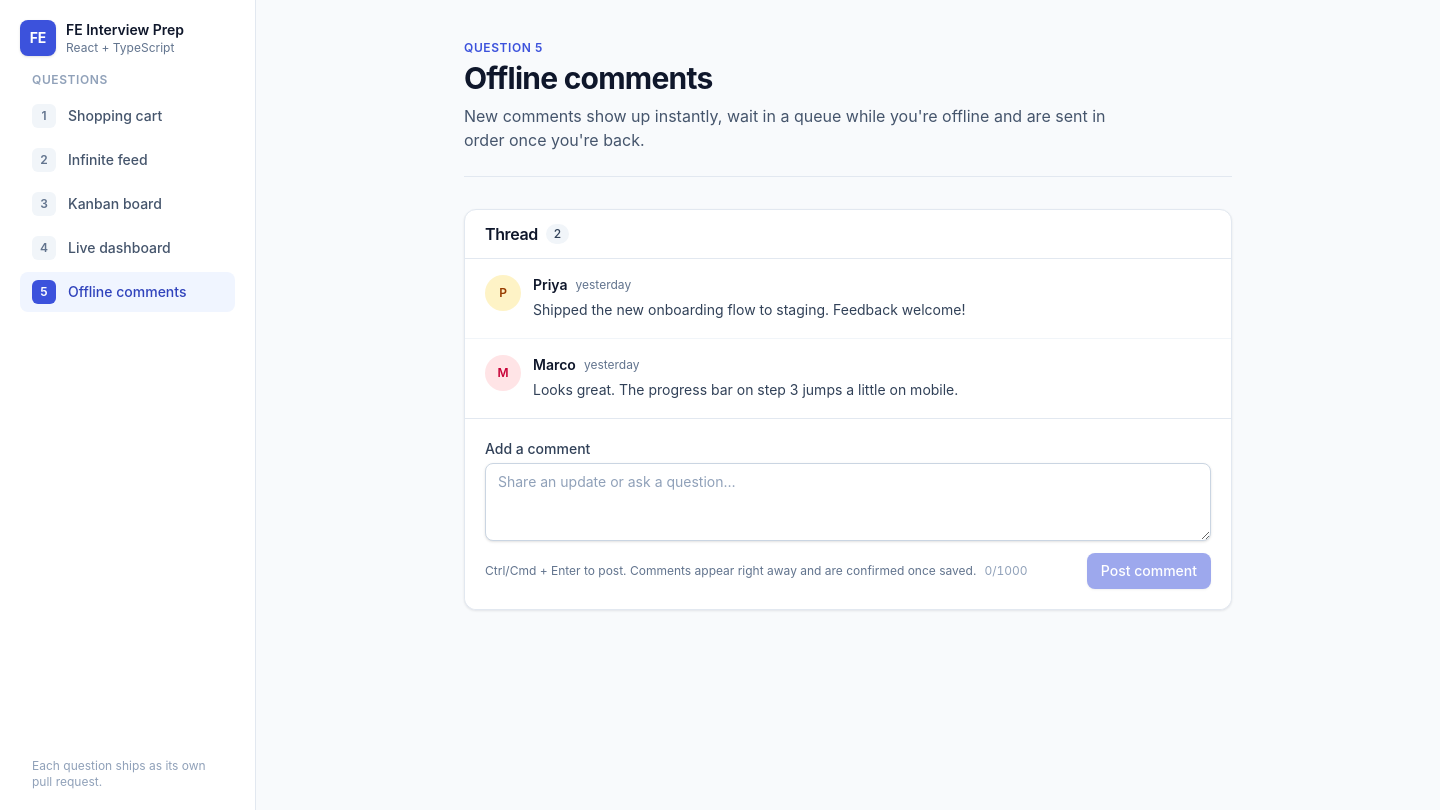
Test case: shows a new comment immediately as sending, then as sent
The image size is (1440, 810).
Expected: the text "Shipped the new onboarding flow" is shown, [533, 301, 965, 318]
Step 1. Type "Looks good to me" into the text box labelled "Add a comment" → (848,502), box [485, 462, 1211, 540]
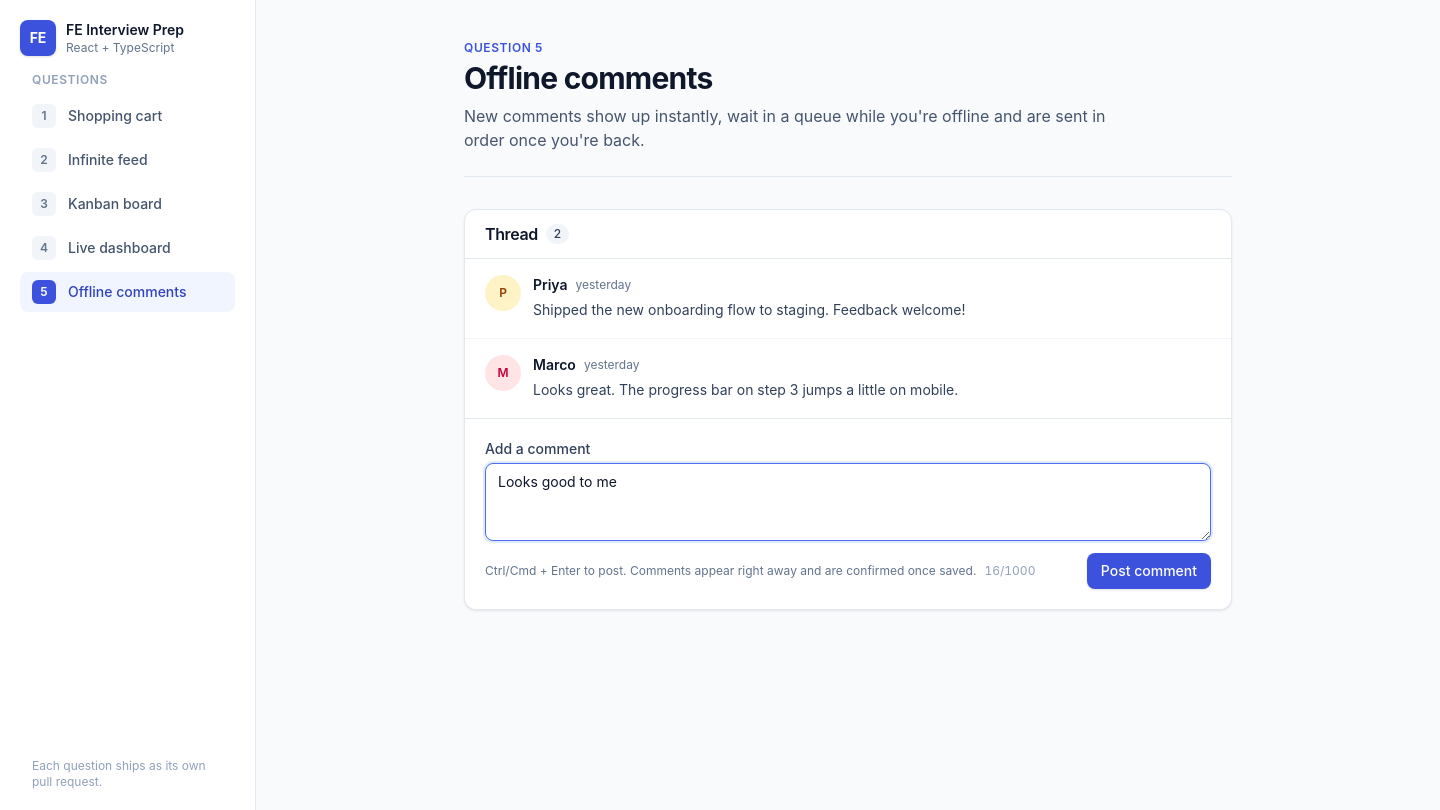
Step 2. Click the button "Post comment" → (1149,570), box [1087, 552, 1211, 588]
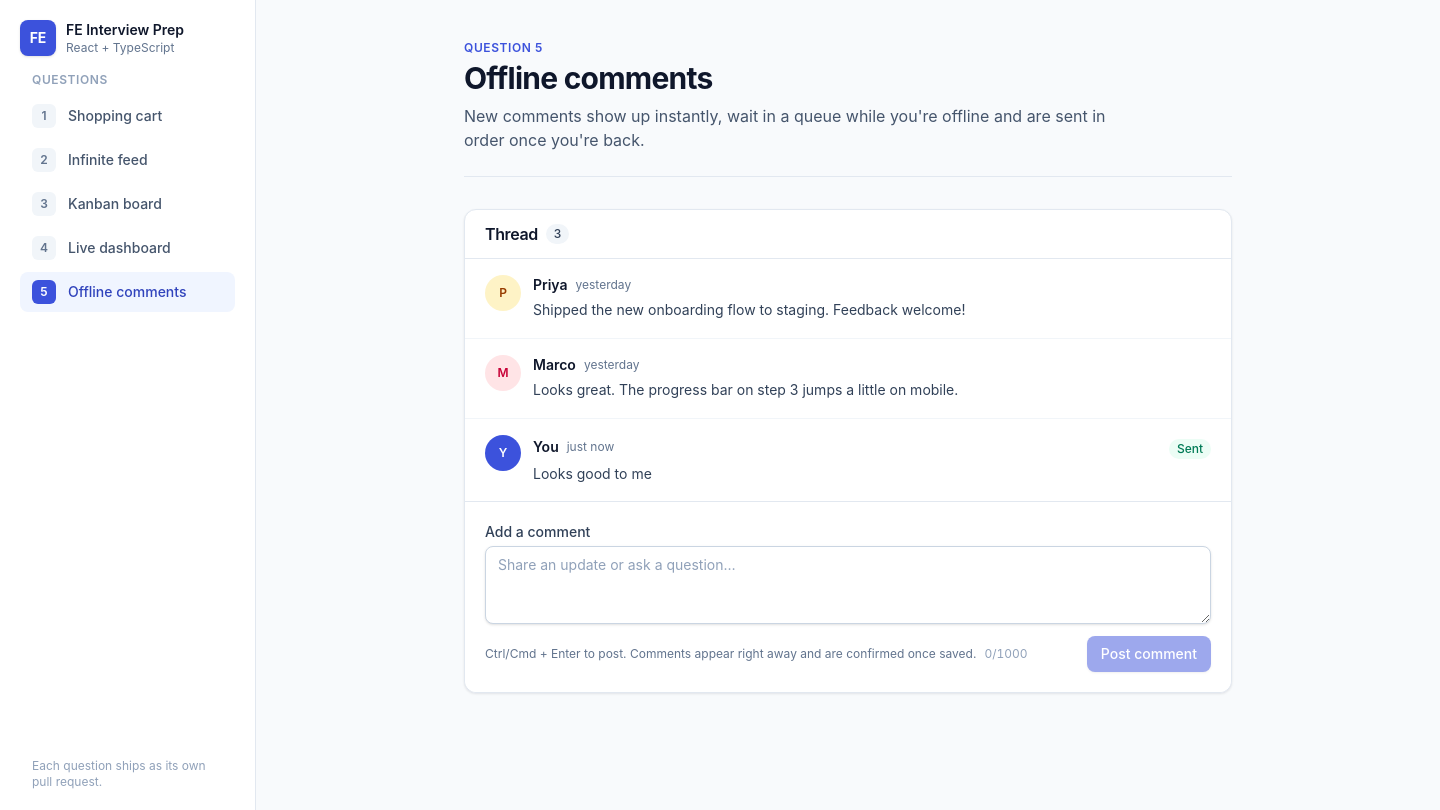
Now the text "Looks good to me" is shown, box [533, 464, 652, 482]
Now the text "Sent" is shown, box [1169, 438, 1211, 458]
